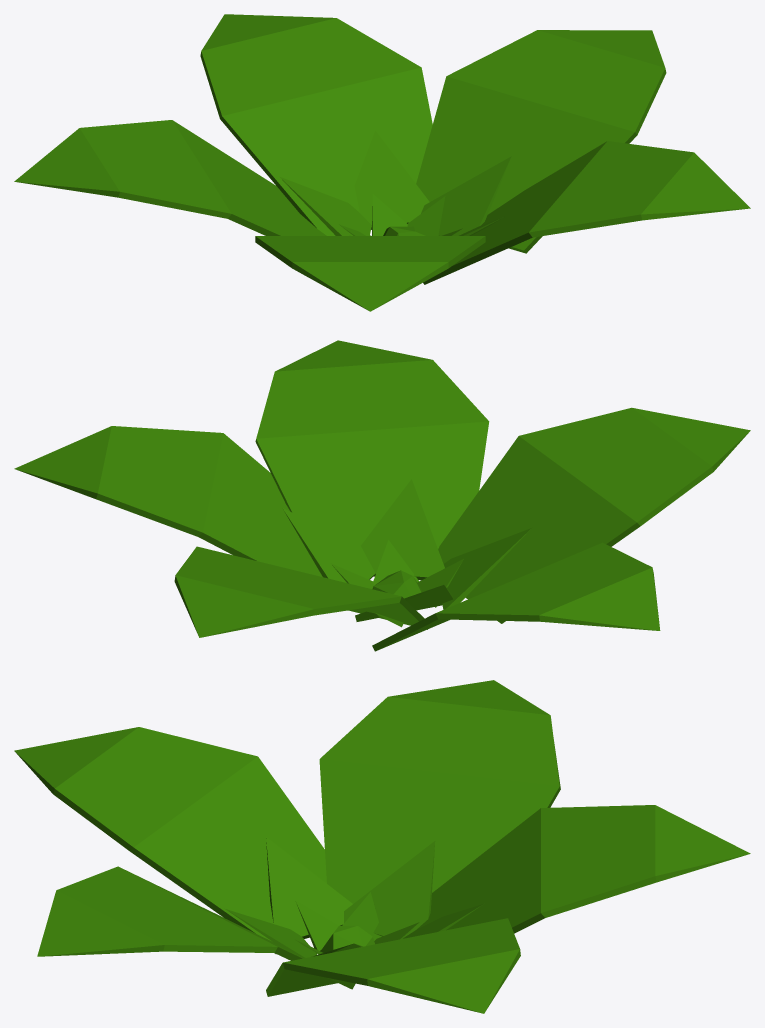
File: Plant_a_02.fbx
3 views of the same model, one above another, from view 1: azimuth 30°, elevation 25°; view 2: azimuth 150°, elevation 25°; view 3: azimuth 270°, elevation 25° (orthographic). The views are drawn at different scales.
Parts seen in each view (by area): view 1: Plant_a_02_LOD0; view 2: Plant_a_02_LOD0; view 3: Plant_a_02_LOD0.
Boxes of the visible parts, left/top/right/bottom form: Plant_a_02_LOD0: left=14, top=14, right=750, bottom=311; Plant_a_02_LOD0: left=14, top=340, right=750, bottom=651; Plant_a_02_LOD0: left=14, top=680, right=750, bottom=1013.
Size of what is drawn, in the model's own units: 22.34 by 3.67 by 20.85.
